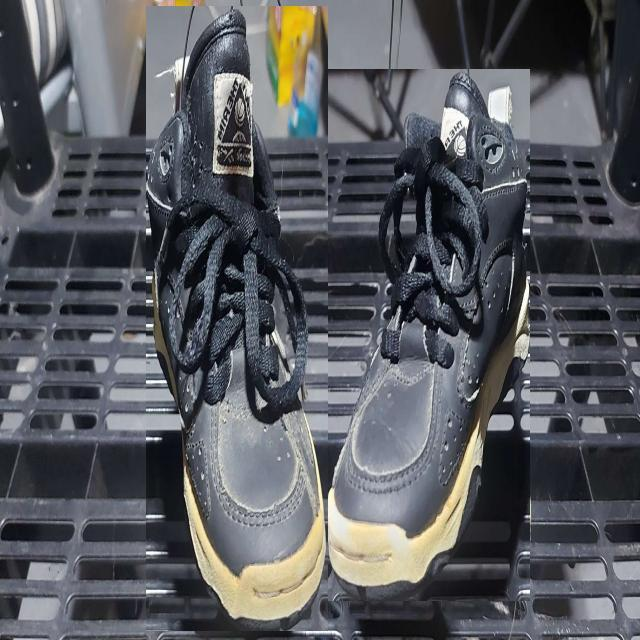shoe: (146, 6, 328, 631), (328, 69, 530, 601)
